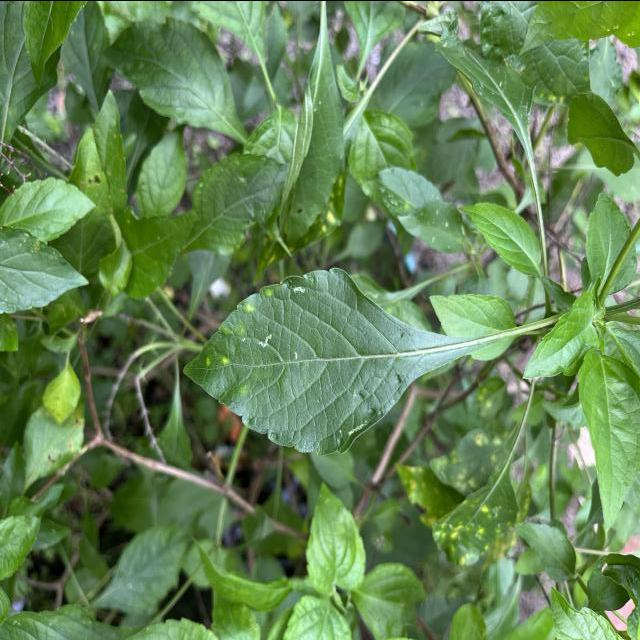Ocimum gratissimum: (178, 262, 519, 458), (576, 344, 640, 533)
